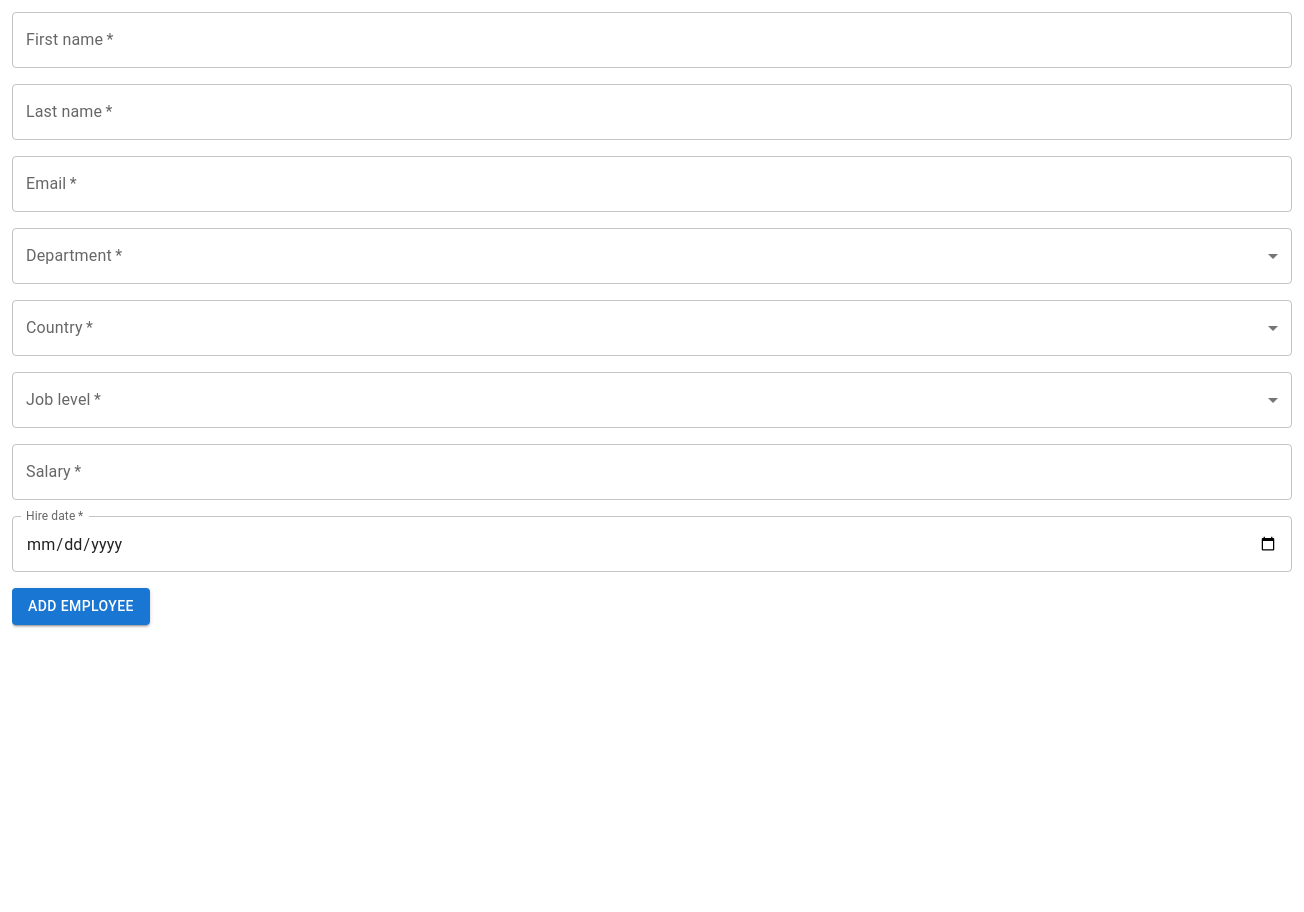
Test: submitting the add-employee form › blocks submission and shows an inline error when a required field is left empty
Click the button "Add employee": (81, 606) [12,588,150,624]
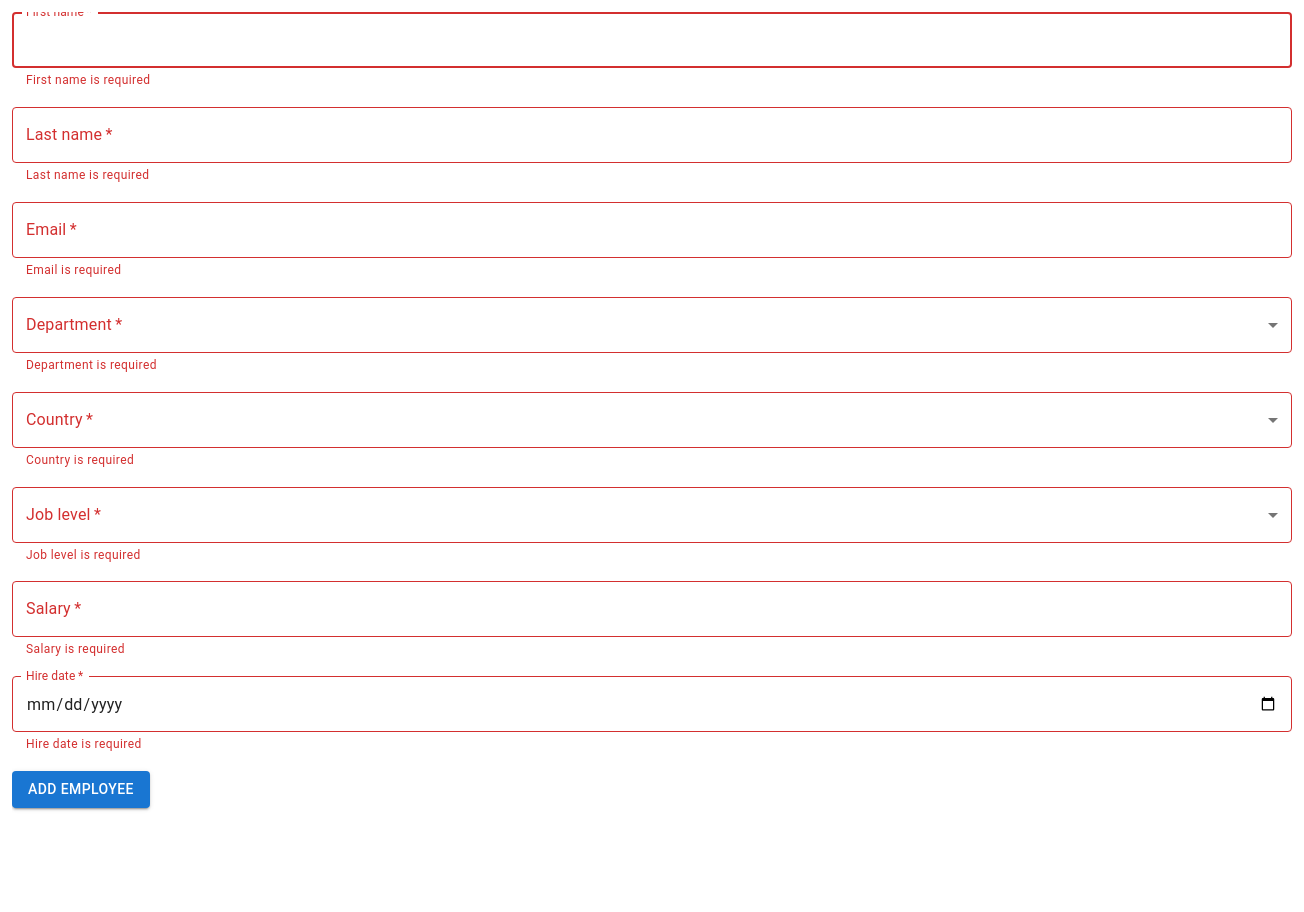
Now the text "First name is required" is shown, box [26,73,150,87]
